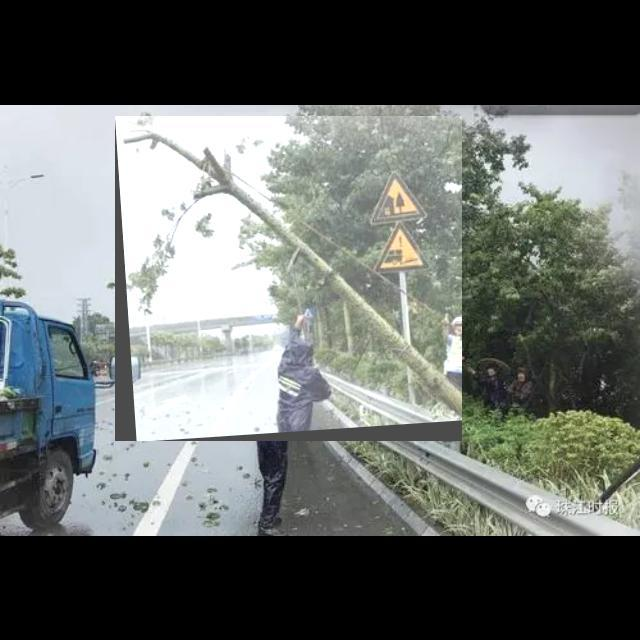fallen_tree: (115, 116, 463, 442)
